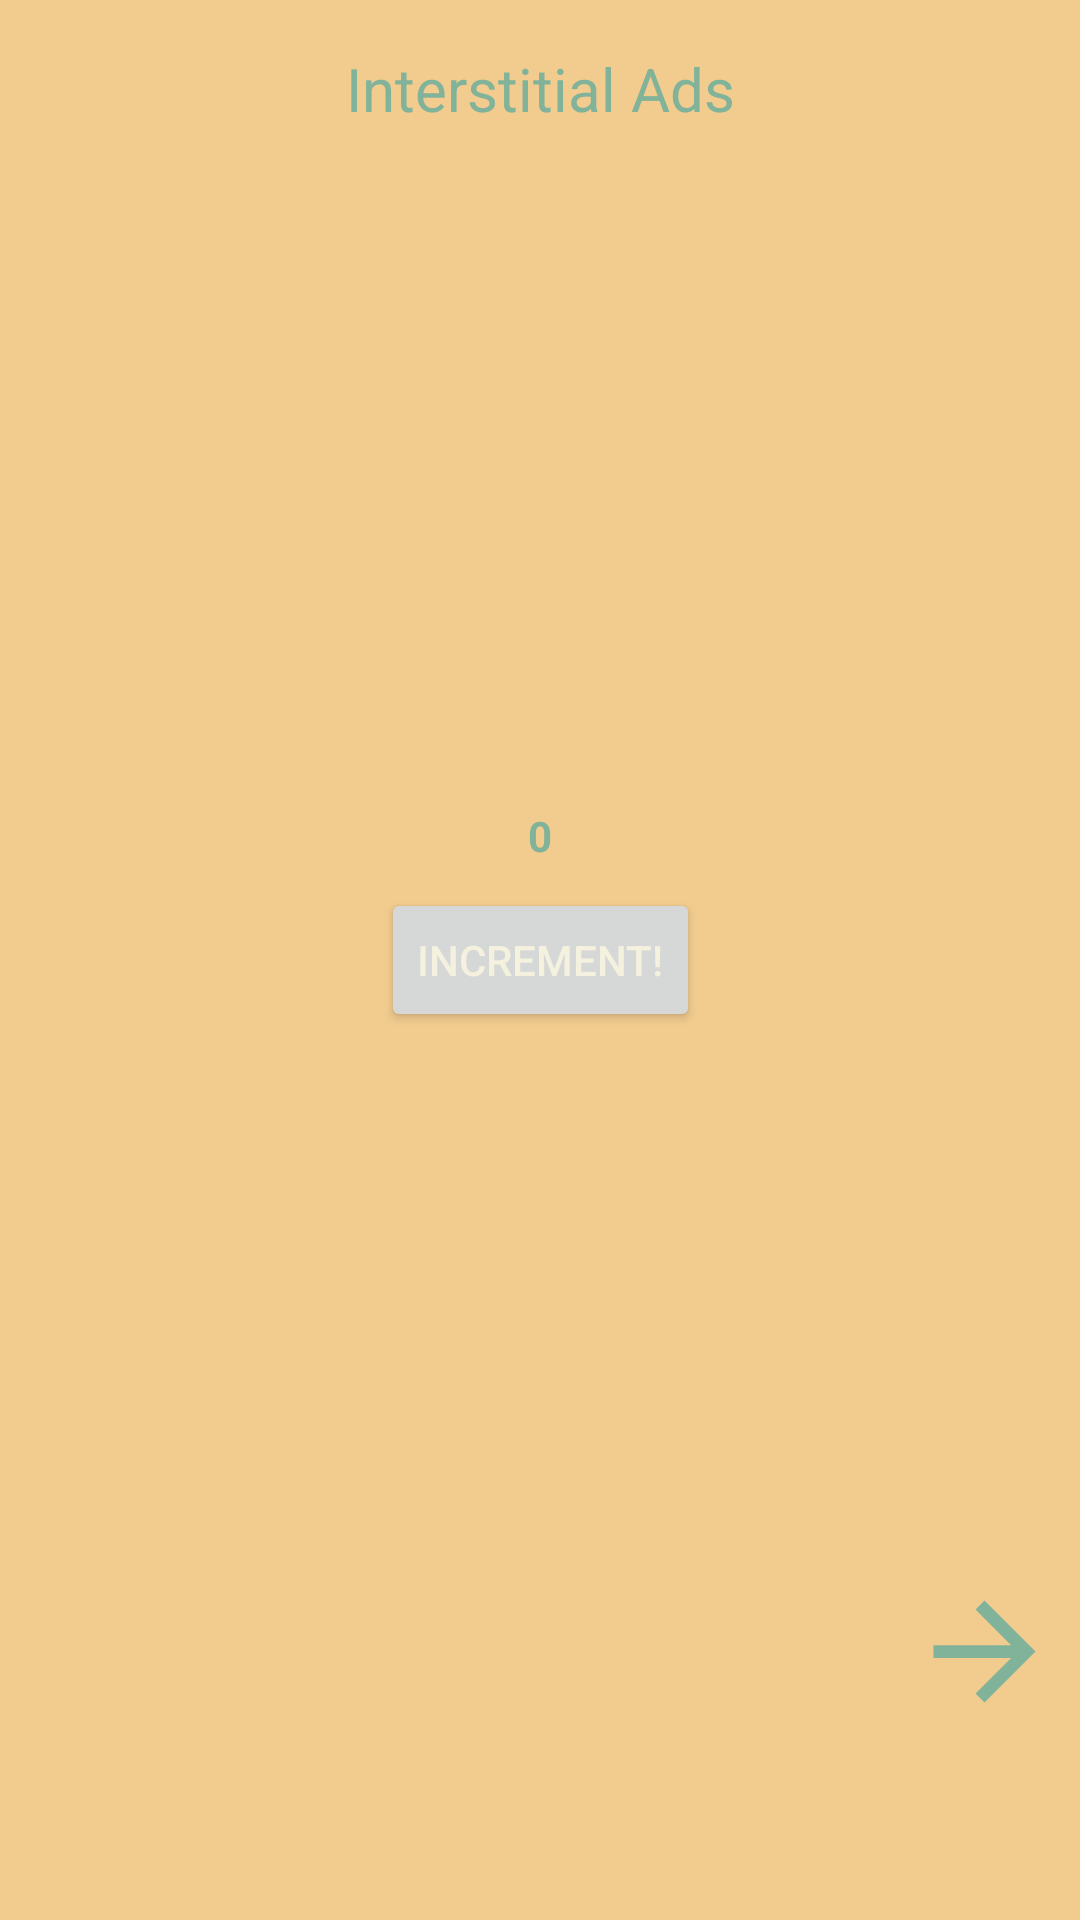

Point at icon controls on the screen. Image size 1080px x 1920px, points as (x,y).
arrow forward: (984,1651)
